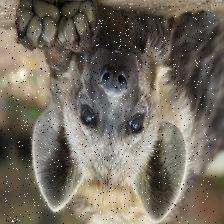hyena: (0, 5, 216, 224)
